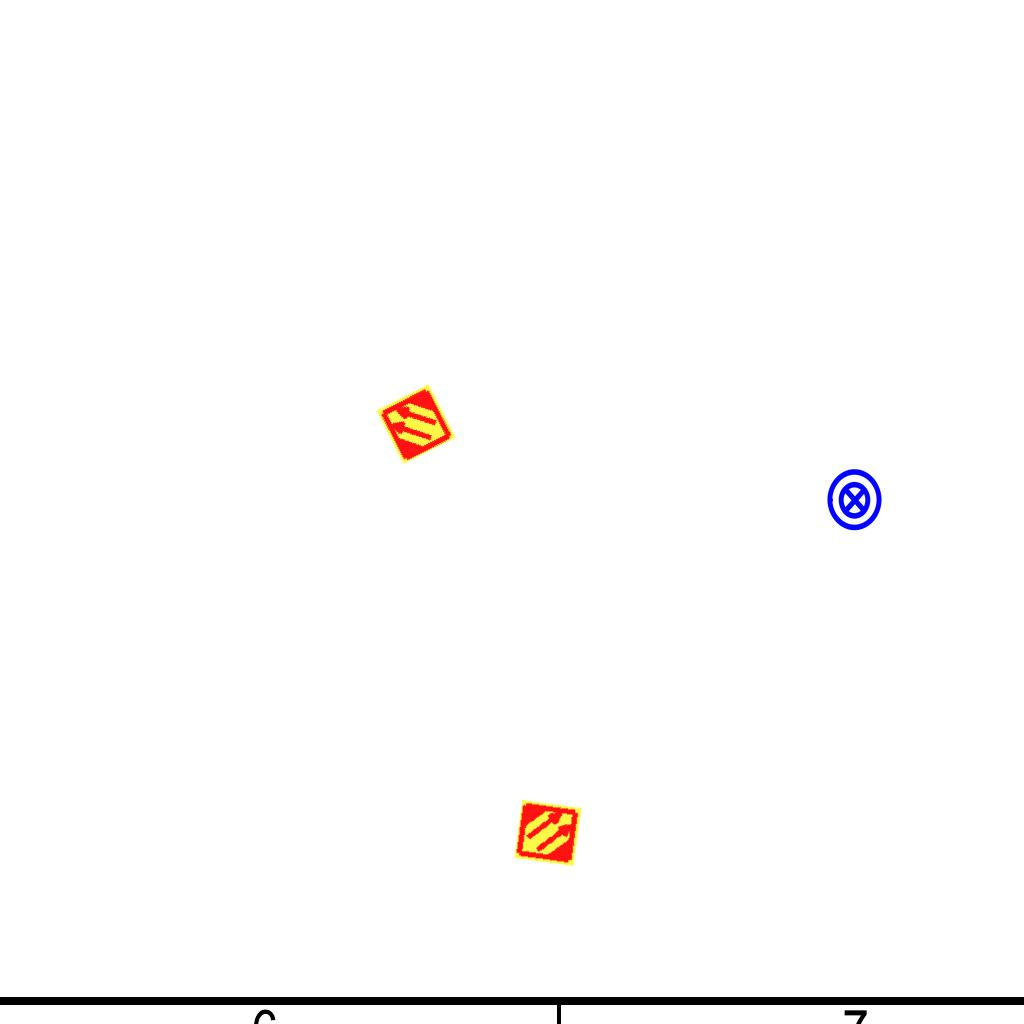ASR_Ansaugrauchmelder: (374, 382, 458, 466), (512, 797, 584, 869)
Taster_beleuchtet: (822, 467, 888, 533)
